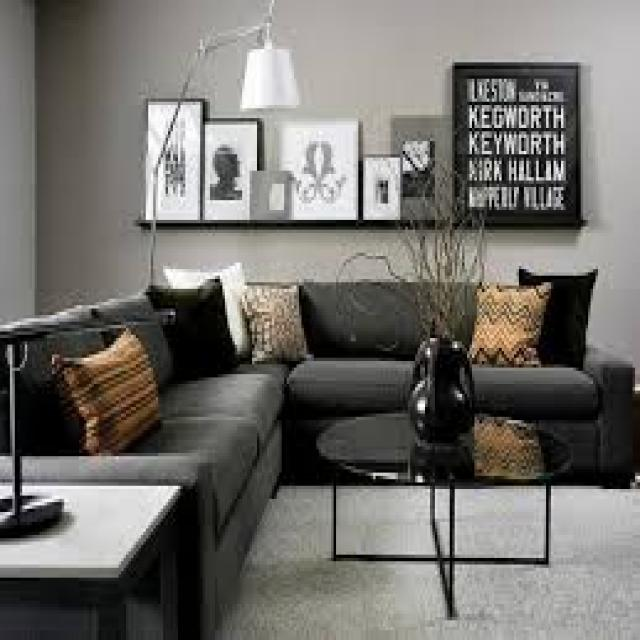Lamp: (140, 12, 295, 286)
Sofa: (11, 268, 640, 568)
Table: (328, 398, 564, 620)
